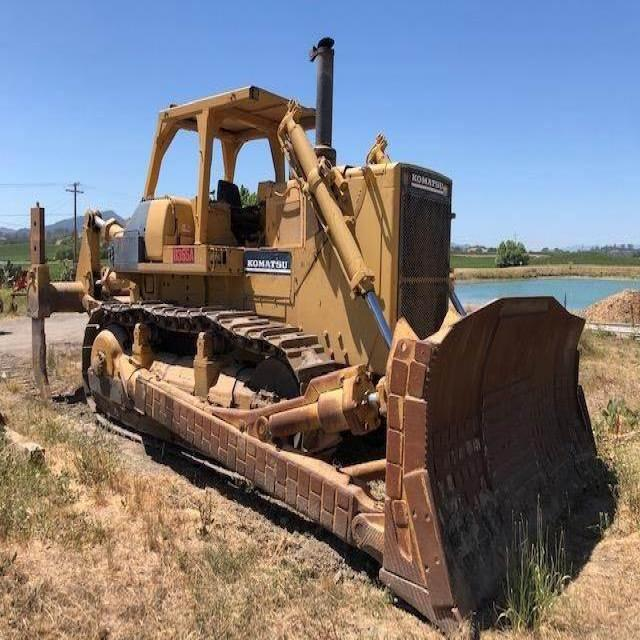Bulldozer: (21, 36, 609, 639)
